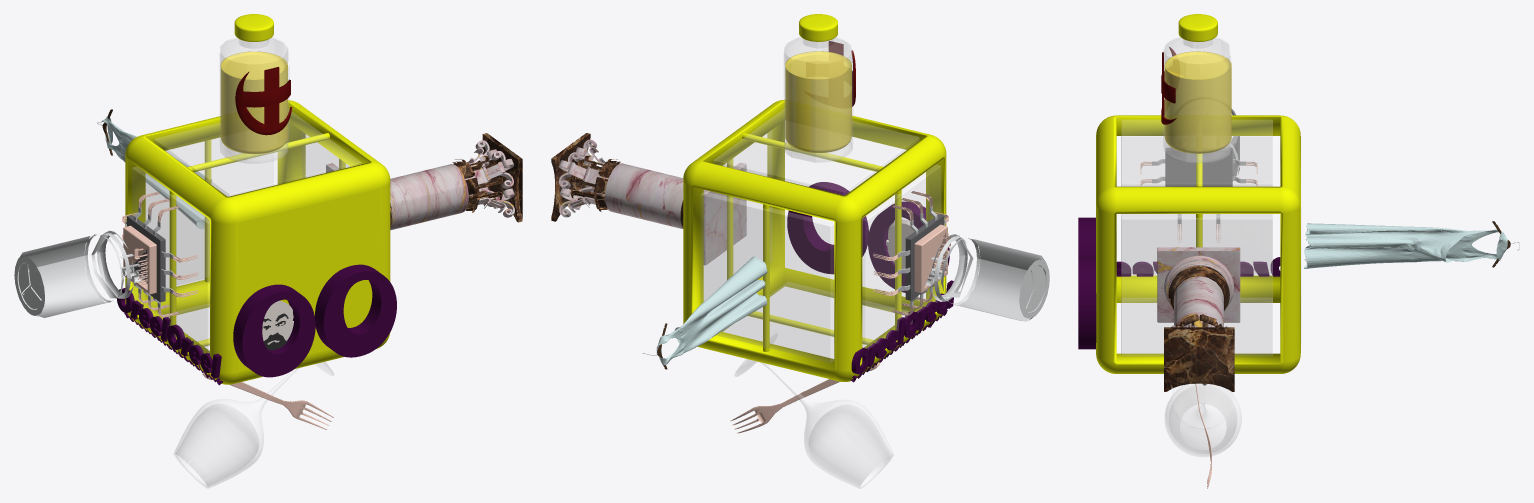
The model's file is HEXoo.glb.
The picture shows the model from 3 angles, left to right: view 1: azimuth 30°, elevation 25°; view 2: azimuth 150°, elevation 25°; view 3: azimuth 270°, elevation 25°; orthographic projection.
Visible parts, largest first — view 1: HEX, OO, RMDY, CTHD, cth9, MRKT_bottle, nurbsToPoly1, GRMN, MRKT_bottleLiquid, BDY, OreelOreel, DRESS (+15 smaller); view 2: HEX, GRMN, RMDY, CTHD, MRKT_bottle, cth9, MRKT_bottleLiquid, nurbsToPoly1, GRNT, FDBV, OO, DRESS (+15 smaller); view 3: HEX, GRNT, CTHD, MRKT_bottle, RMDY, DRESS, MRKT_bottleLiquid, nurbsToPoly1, crown, FDBV, pCube43, OO (+6 smaller).
Part boxes in pixels (x1=…): HEX: x1=125, y1=100, x2=390, y2=384; OO: x1=233, y1=264, x2=396, y2=377; RMDY: x1=154, y1=109, x2=361, y2=196; CTHD: x1=132, y1=167, x2=209, y2=353; cth9: x1=14, y1=230, x2=139, y2=317; MRKT_bottle: x1=220, y1=37, x2=289, y2=163; nurbsToPoly1: x1=174, y1=362, x2=333, y2=488; GRMN: x1=146, y1=138, x2=273, y2=286; MRKT_bottleLiquid: x1=220, y1=51, x2=287, y2=154; BDY: x1=390, y1=164, x2=468, y2=230; OreelOreel: x1=117, y1=288, x2=221, y2=378; DRESS: x1=101, y1=116, x2=211, y2=229; HEX: x1=683, y1=99, x2=946, y2=381; GRMN: x1=700, y1=192, x2=833, y2=362; RMDY: x1=713, y1=108, x2=919, y2=195; CTHD: x1=862, y1=165, x2=940, y2=349; MRKT_bottle: x1=784, y1=37, x2=852, y2=162; cth9: x1=930, y1=234, x2=1049, y2=321; MRKT_bottleLiquid: x1=785, y1=51, x2=851, y2=152; nurbsToPoly1: x1=734, y1=359, x2=893, y2=488; GRNT: x1=704, y1=130, x2=771, y2=300; FDBV: x1=722, y1=282, x2=908, y2=358; OO: x1=787, y1=182, x2=949, y2=292; DRESS: x1=656, y1=256, x2=767, y2=365; HEX: x1=1096, y1=115, x2=1300, y2=373; GRNT: x1=1121, y1=215, x2=1272, y2=356; CTHD: x1=1121, y1=136, x2=1272, y2=273; MRKT_bottle: x1=1163, y1=37, x2=1230, y2=163; RMDY: x1=1121, y1=120, x2=1272, y2=186; DRESS: x1=1304, y1=223, x2=1507, y2=268; MRKT_bottleLiquid: x1=1164, y1=51, x2=1231, y2=153; nurbsToPoly1: x1=1165, y1=384, x2=1241, y2=456; crown: x1=1164, y1=327, x2=1234, y2=391; FDBV: x1=1121, y1=298, x2=1272, y2=352; pCube43: x1=1157, y1=247, x2=1240, y2=322; OO: x1=1078, y1=217, x2=1096, y2=349.
Size of the model in its own units: 14.46 by 13.33 by 11.74.
19 materials, 2 textured.
